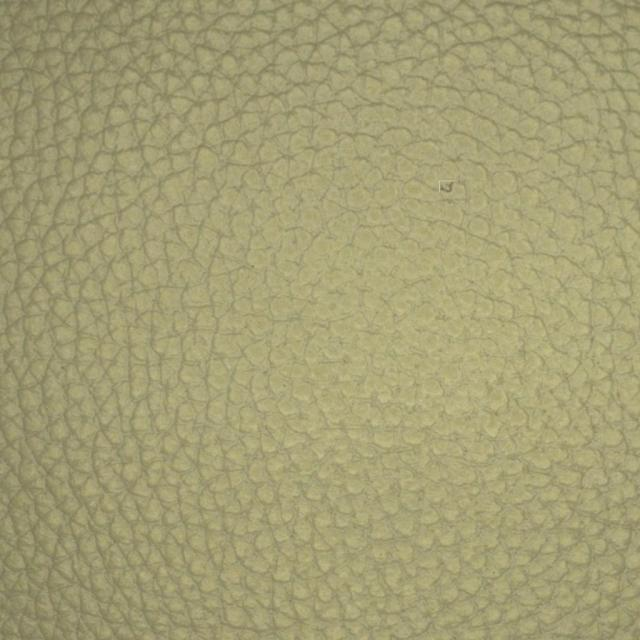pinhole: (390, 121, 504, 256)
